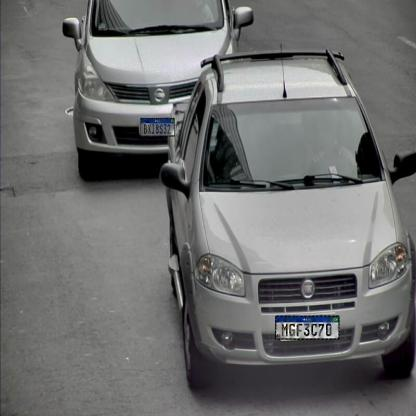PlacaM: (275, 315, 340, 340), (140, 118, 175, 136)
